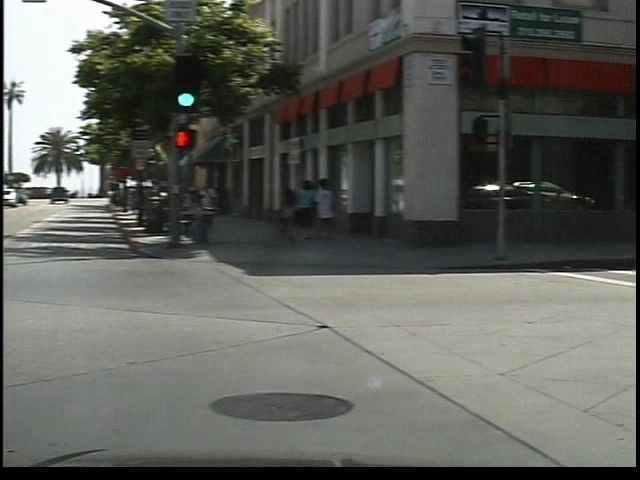person: (210, 173, 236, 238)
